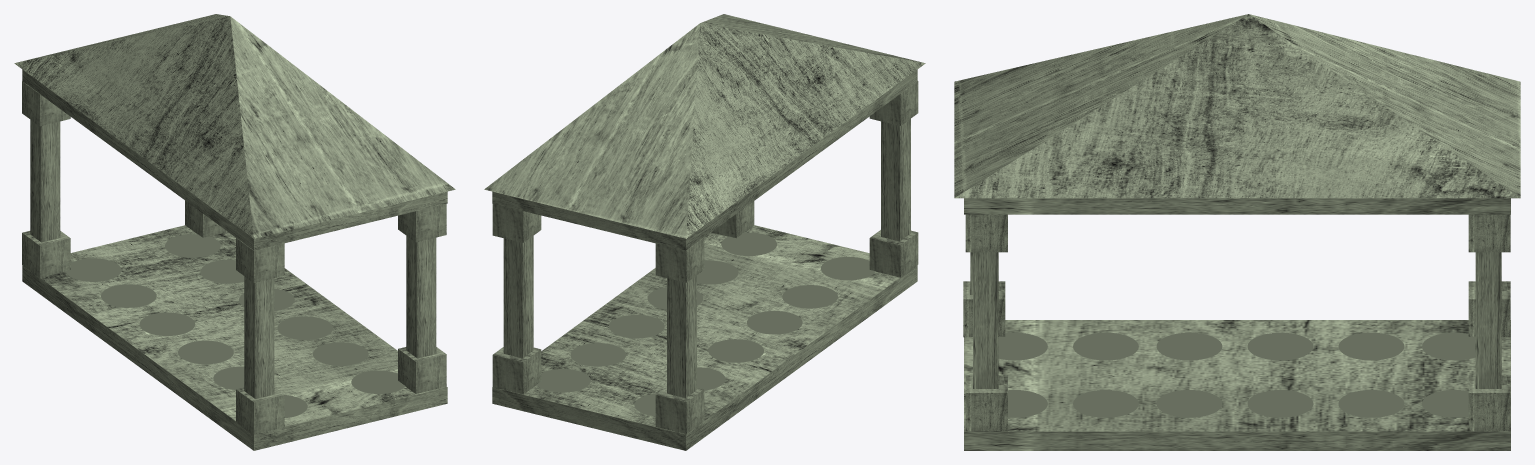
File: camara.fbx
3 views of the same model, side by side, from view 1: azimuth 30°, elevation 25°; view 2: azimuth 150°, elevation 25°; view 3: azimuth 270°, elevation 25° (orthographic). The views are drawn at different scales.
Parts seen in each view (by area): view 1: Plane; view 2: Plane; view 3: Plane.
Boxes of the visible parts, bbox=[...] form: Plane: bbox=[14, 14, 455, 450]; Plane: bbox=[484, 14, 925, 450]; Plane: bbox=[954, 14, 1520, 450].
Bounding box in the file's own units: 341 × 520 × 701.
1 material, 1 textured.
